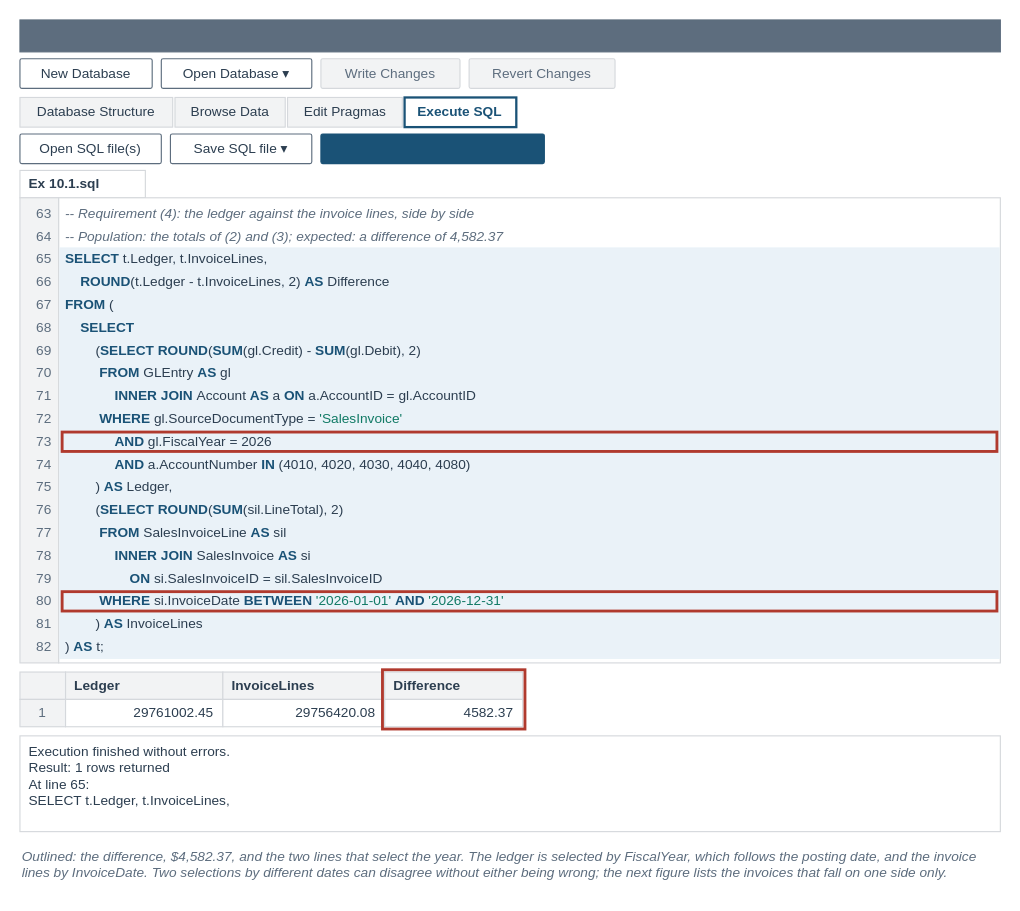
Image size: 1020x911. Some labels were removed from this diagram. The centre of each missing label's shape, as x and y in pixels:
DB Browser for SQLite - C:\Users\you\Documents\CharlesRiver_Work.sqlite: (509,35)
▶ Execute all/selected SQL: (432,148)
